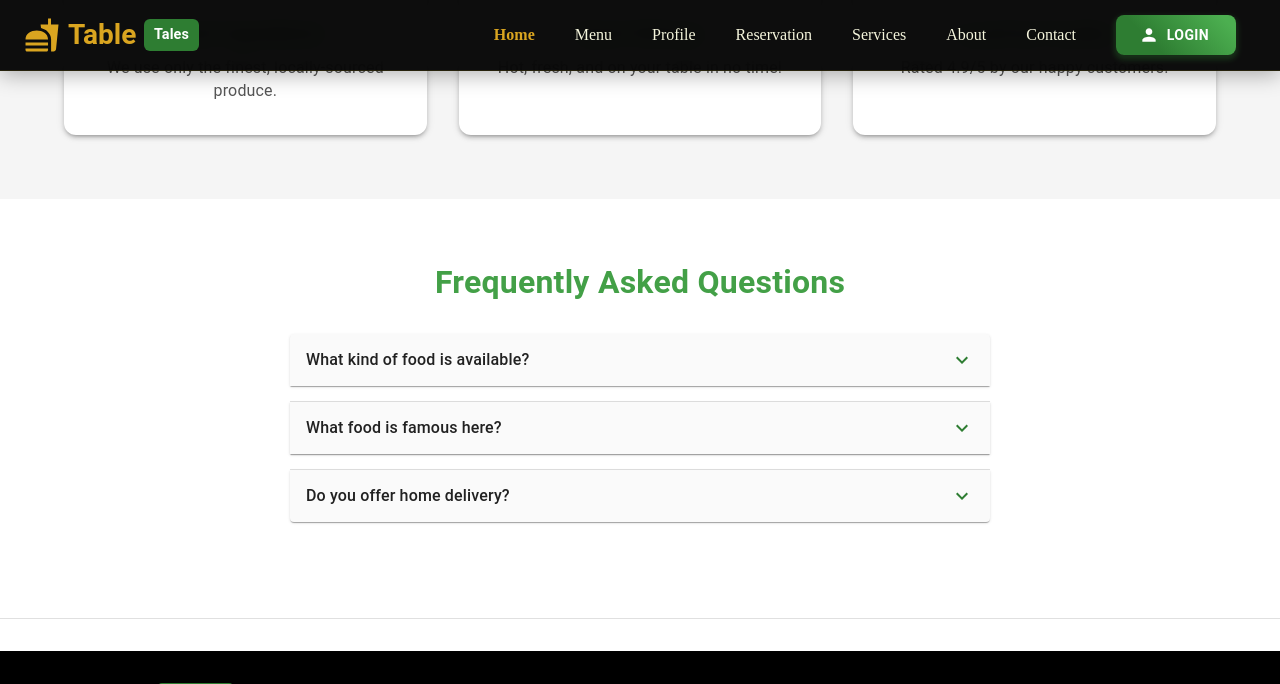
Home Page › FAQ Section › should expand FAQ items when clicked
The image size is (1280, 684).
(page scrolled)
Note: Click first FAQ question
Click the button "What kind of food is available?" at (418, 360), box [290,334,990,386]
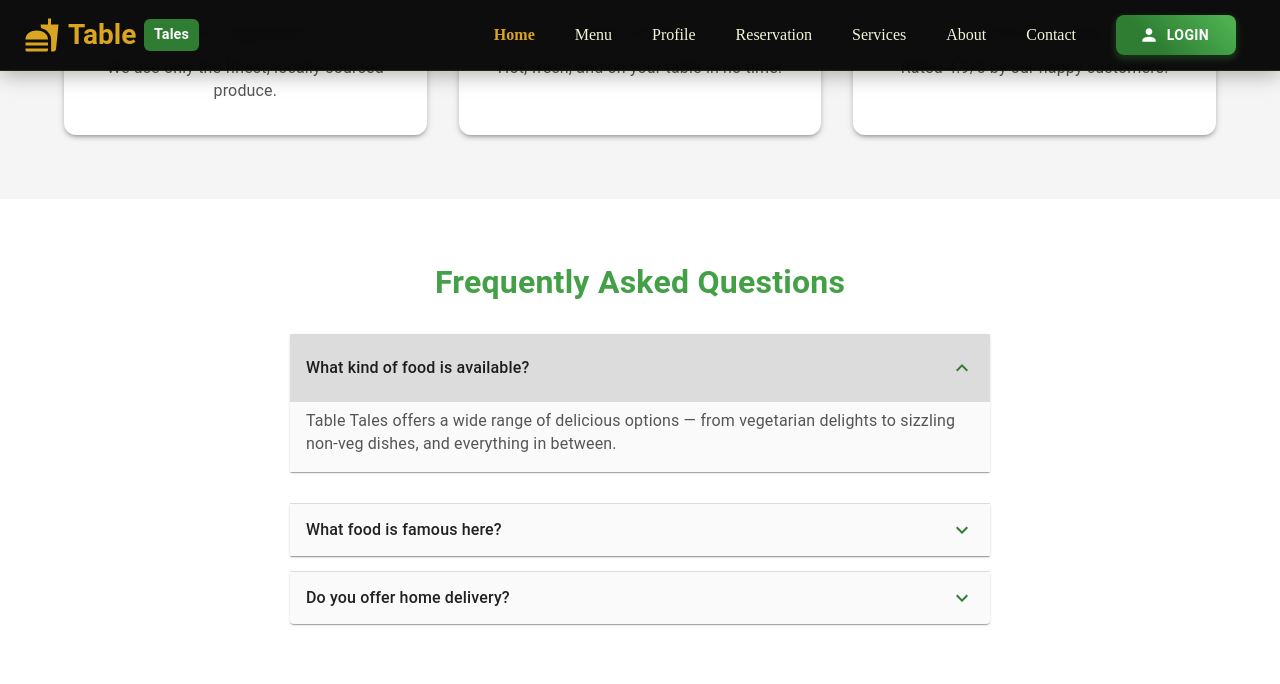
Now the text "vegetarian delights to sizzling non-veg dishes" is shown, box [306,411,955,453]
